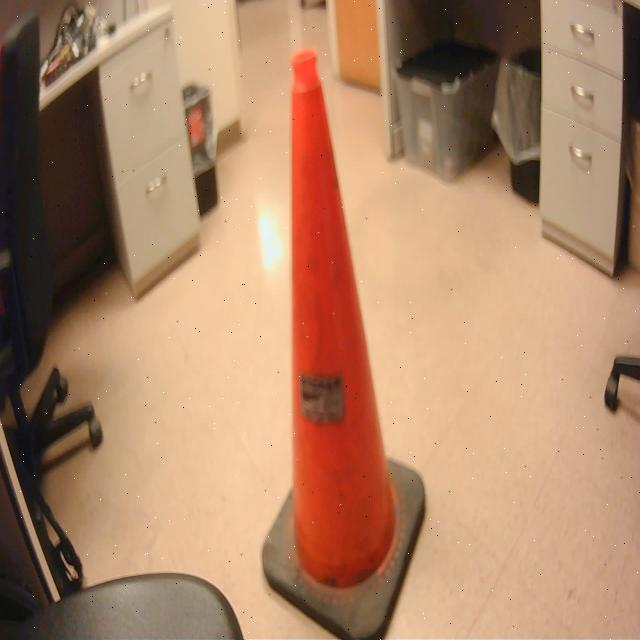traffic cone: (258, 38, 433, 640)
